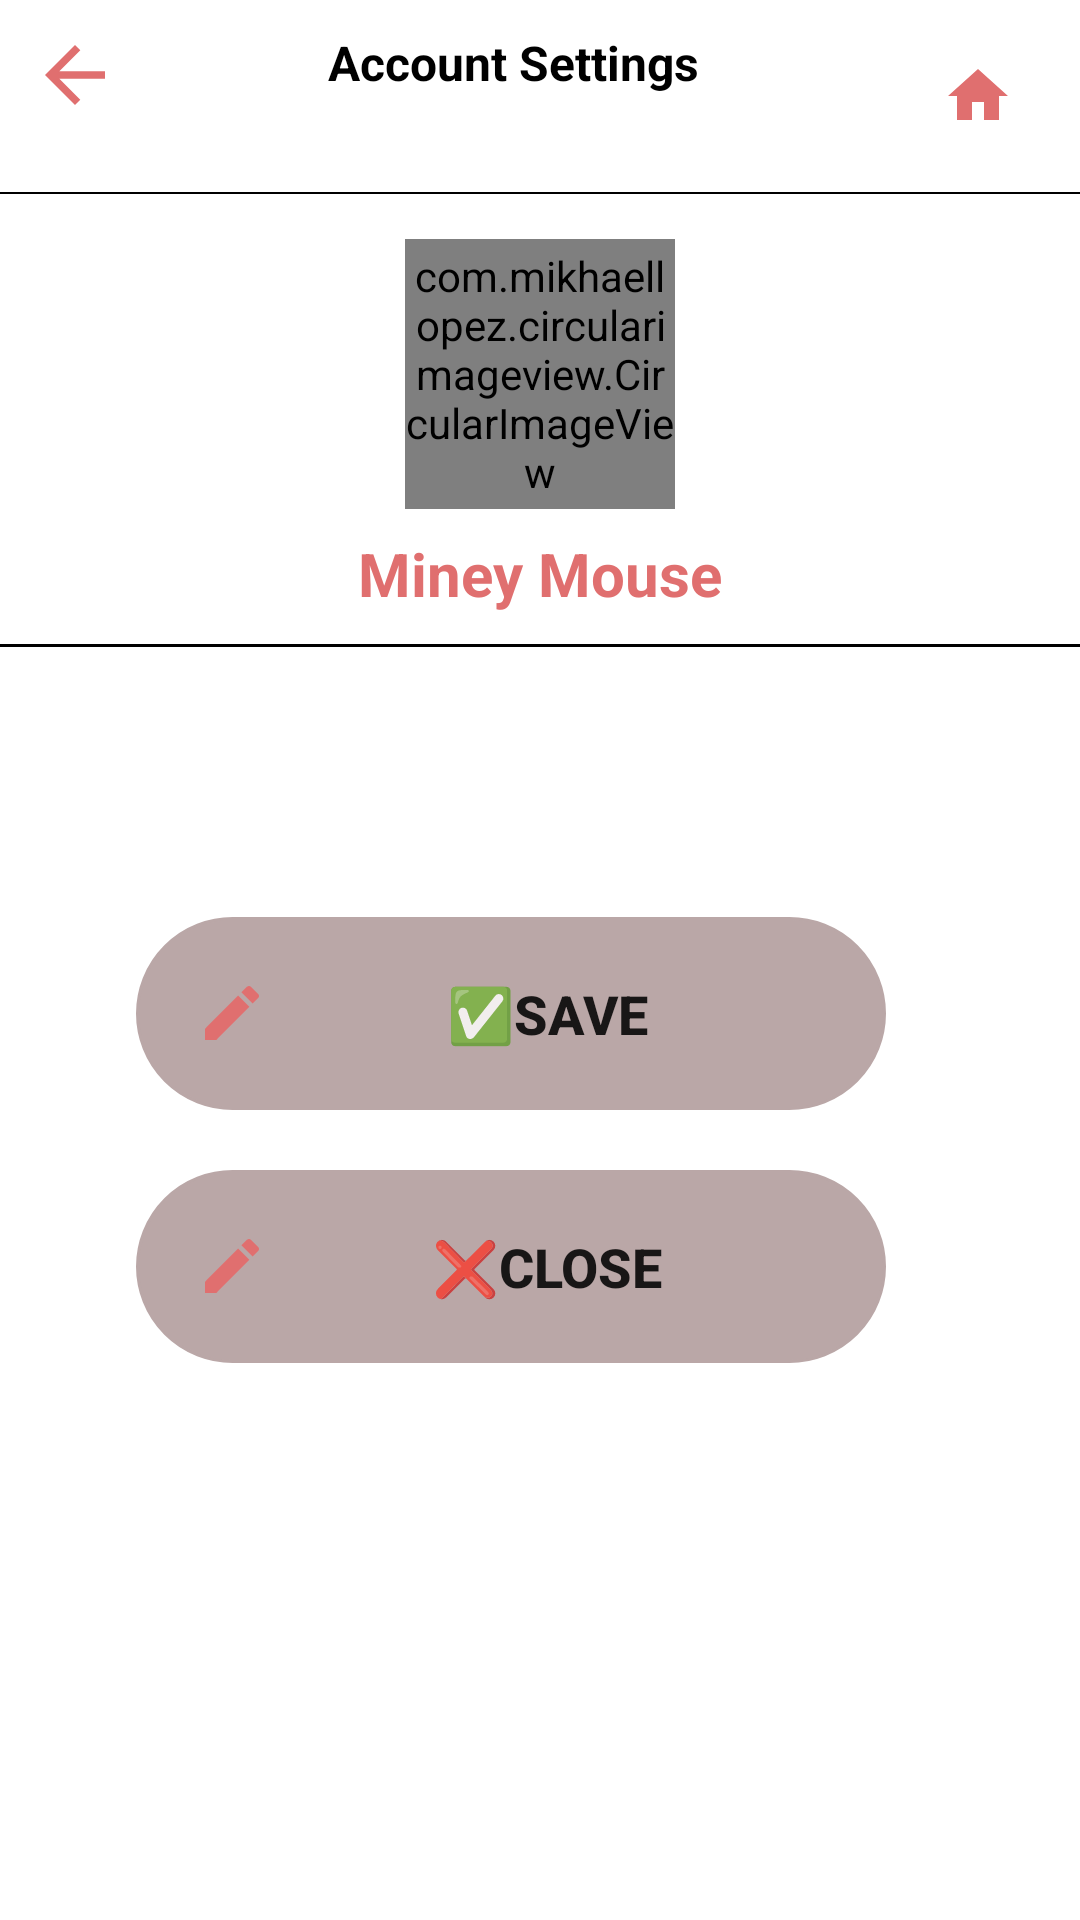

Point at icon controls on the screen. Image size 1080px x 1920px, points as point (x, y).
arrow bacl: point (75, 75)
home: point (978, 94)
